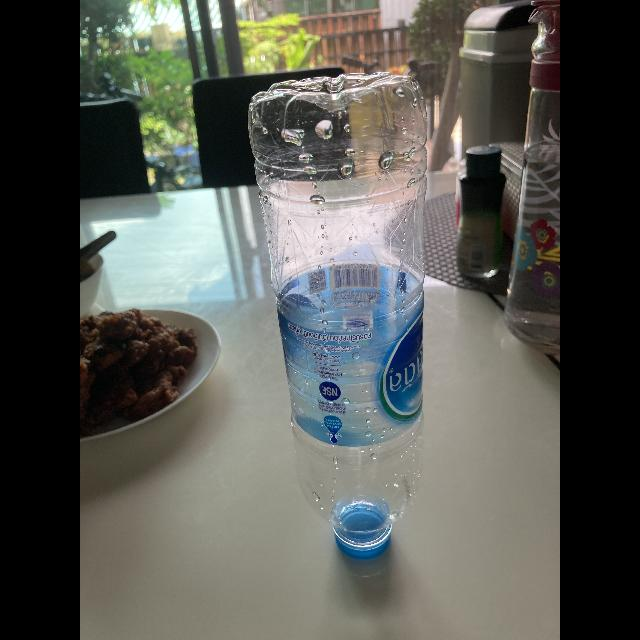plastic_bottle: (246, 67, 428, 560)
plastic_bottle_cap: (335, 504, 393, 558)
